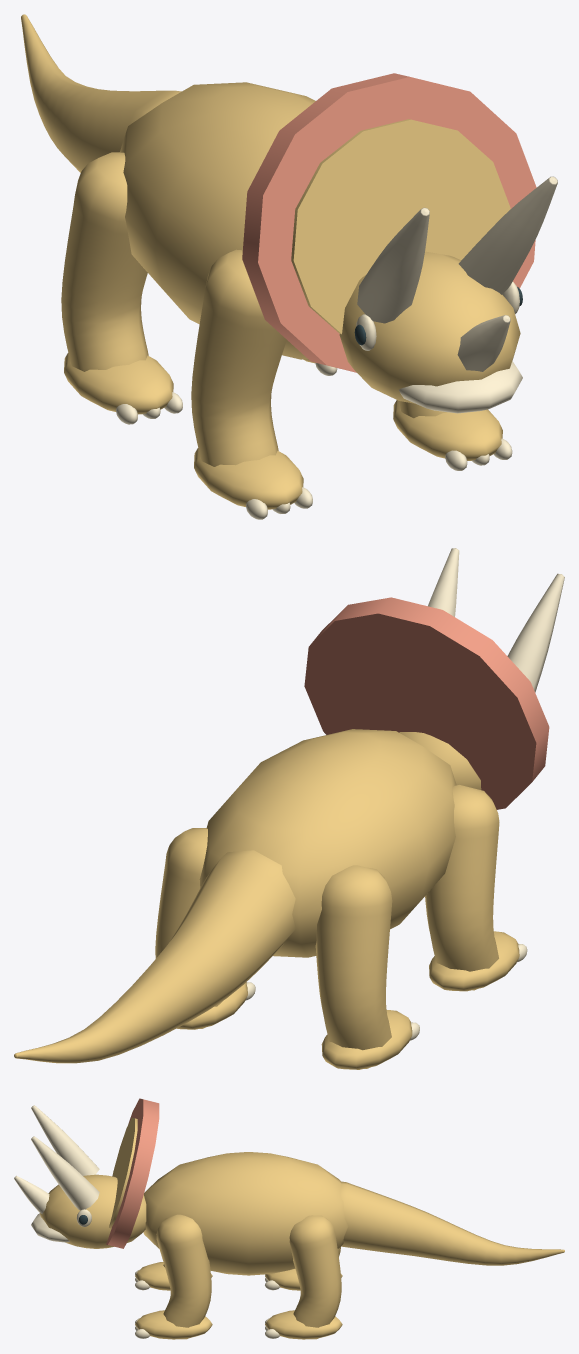
Rendered from lost-valley-dinosaurs-triceratops-d4d5f55d__1654.glb.
3 views of the same model, one above another, from view 1: azimuth 30°, elevation 25°; view 2: azimuth 150°, elevation 25°; view 3: azimuth 270°, elevation 25° (orthographic). The views are drawn at different scales.
Visible parts, largest first — view 1: triceratops; view 2: triceratops; view 3: triceratops.
Boxes of the visible parts, <box> form: triceratops: <box>21,14,557,519</box>; triceratops: <box>14,548,564,1069</box>; triceratops: <box>14,1098,564,1339</box>.
Size of the model in its own units: 1.58 by 2.21 by 5.36.
